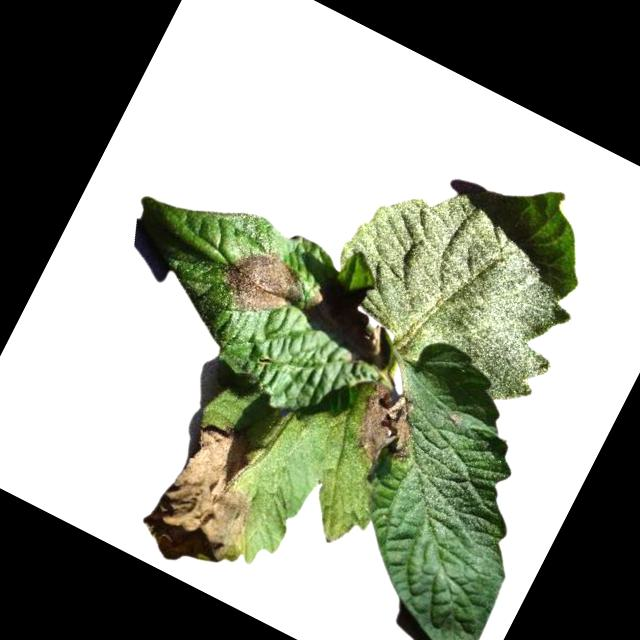Late_blight: (130, 411, 294, 591), (207, 235, 314, 333), (339, 377, 436, 479), (357, 319, 389, 356), (303, 289, 325, 313)
healthy: (309, 113, 623, 417)
